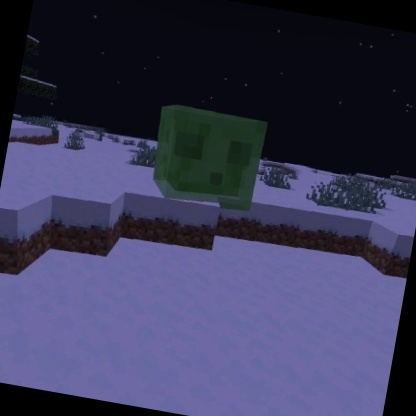slime: (142, 97, 270, 217)
